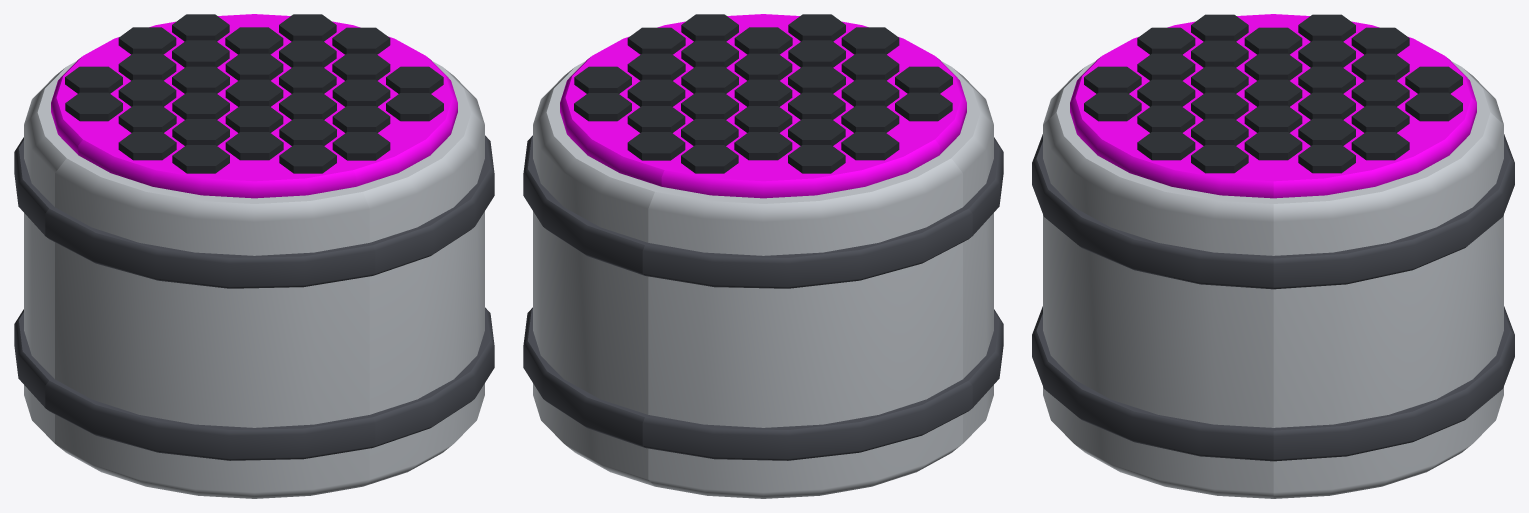
File: objet_filtre_graphite.glb
3 renders of one model, left to right at view 1: azimuth 30°, elevation 25°; view 2: azimuth 150°, elevation 25°; view 3: azimuth 270°, elevation 25°, orthographic.
Parts seen in each view (by area): view 1: filtre_composant_clair.002, filtre_composant.002, filtre_trame.002, filtre_teinte.002; view 2: filtre_composant_clair.002, filtre_composant.002, filtre_trame.002, filtre_teinte.002; view 3: filtre_composant_clair.002, filtre_composant.002, filtre_trame.002, filtre_teinte.002.
Part boxes in pixels (x1=…): filtre_composant_clair.002: x1=24, y1=61, x2=484, y2=498; filtre_composant.002: x1=65, y1=14, x2=443, y2=173; filtre_trame.002: x1=14, y1=135, x2=494, y2=460; filtre_teinte.002: x1=51, y1=14, x2=457, y2=198; filtre_composant_clair.002: x1=533, y1=61, x2=993, y2=498; filtre_composant.002: x1=574, y1=14, x2=952, y2=173; filtre_trame.002: x1=523, y1=135, x2=1003, y2=460; filtre_teinte.002: x1=560, y1=14, x2=966, y2=198; filtre_composant_clair.002: x1=1043, y1=61, x2=1503, y2=498; filtre_composant.002: x1=1084, y1=14, x2=1462, y2=173; filtre_trame.002: x1=1032, y1=134, x2=1514, y2=461; filtre_teinte.002: x1=1070, y1=14, x2=1476, y2=198.
Size of the model in its own units: 0.178 by 0.129 by 0.178.
